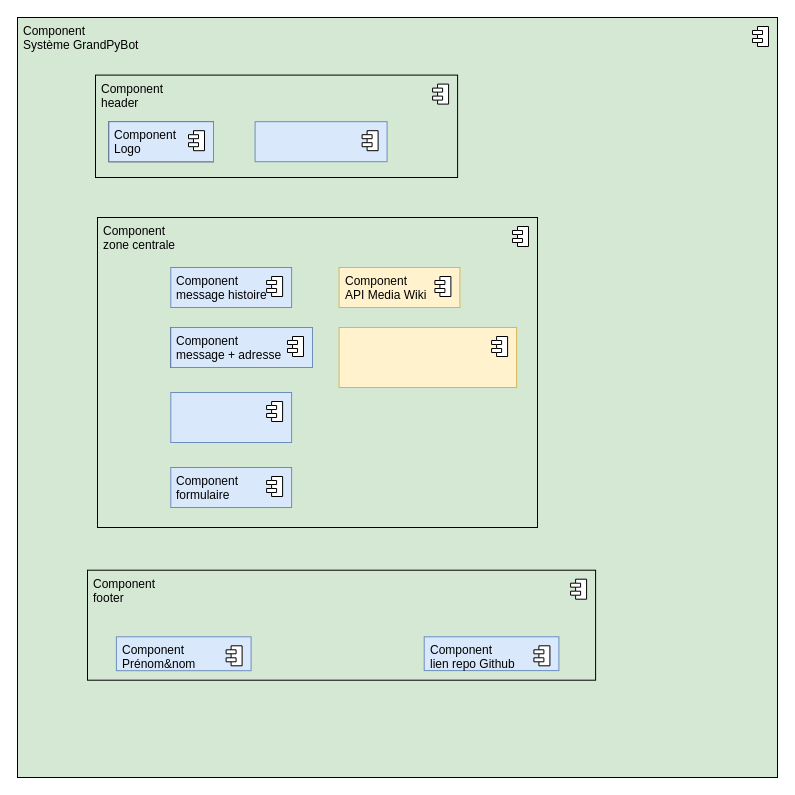
This 795x795 diagram has some shape labels left out. The shapes that lost their labels are listed below. From the top down, each one's centre as x and y in pixels, then its label:
pixel 320 141: Component Phrase d'acroche
pixel 427 357: Component carte Google Map avec marqueur indiquant l'adresse
pixel 231 417: Component icone tourne
